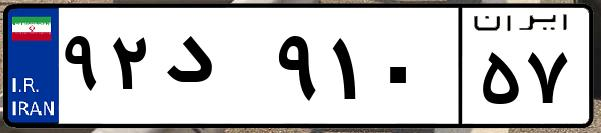0: (385, 28, 445, 110)
1: (330, 28, 385, 110)
2: (110, 28, 158, 98)
5: (475, 38, 525, 113)
7: (525, 38, 570, 115)
9: (270, 28, 330, 110), (57, 26, 110, 100)
د: (158, 20, 270, 120)
